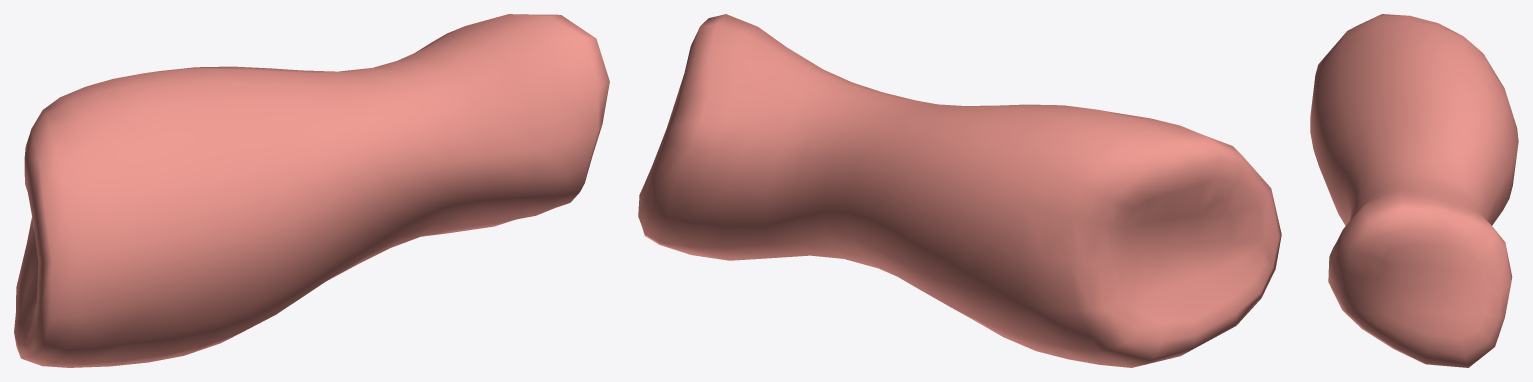
Rendered from mixamo_humanoid_surface_leftArm.fbx.
3 renders of one model, left to right at view 1: azimuth 30°, elevation 25°; view 2: azimuth 150°, elevation 25°; view 3: azimuth 270°, elevation 25°, orthographic. The views are drawn at different scales.
Parts seen in each view (by area): view 1: surface_LeftArm; view 2: surface_LeftArm; view 3: surface_LeftArm.
Part boxes in pixels (<box>): surface_LeftArm: <box>14,14,609,367</box>; surface_LeftArm: <box>638,14,1281,367</box>; surface_LeftArm: <box>1310,14,1518,367</box>.
Size of the model in its own units: 28.56 by 11.87 by 11.31.
